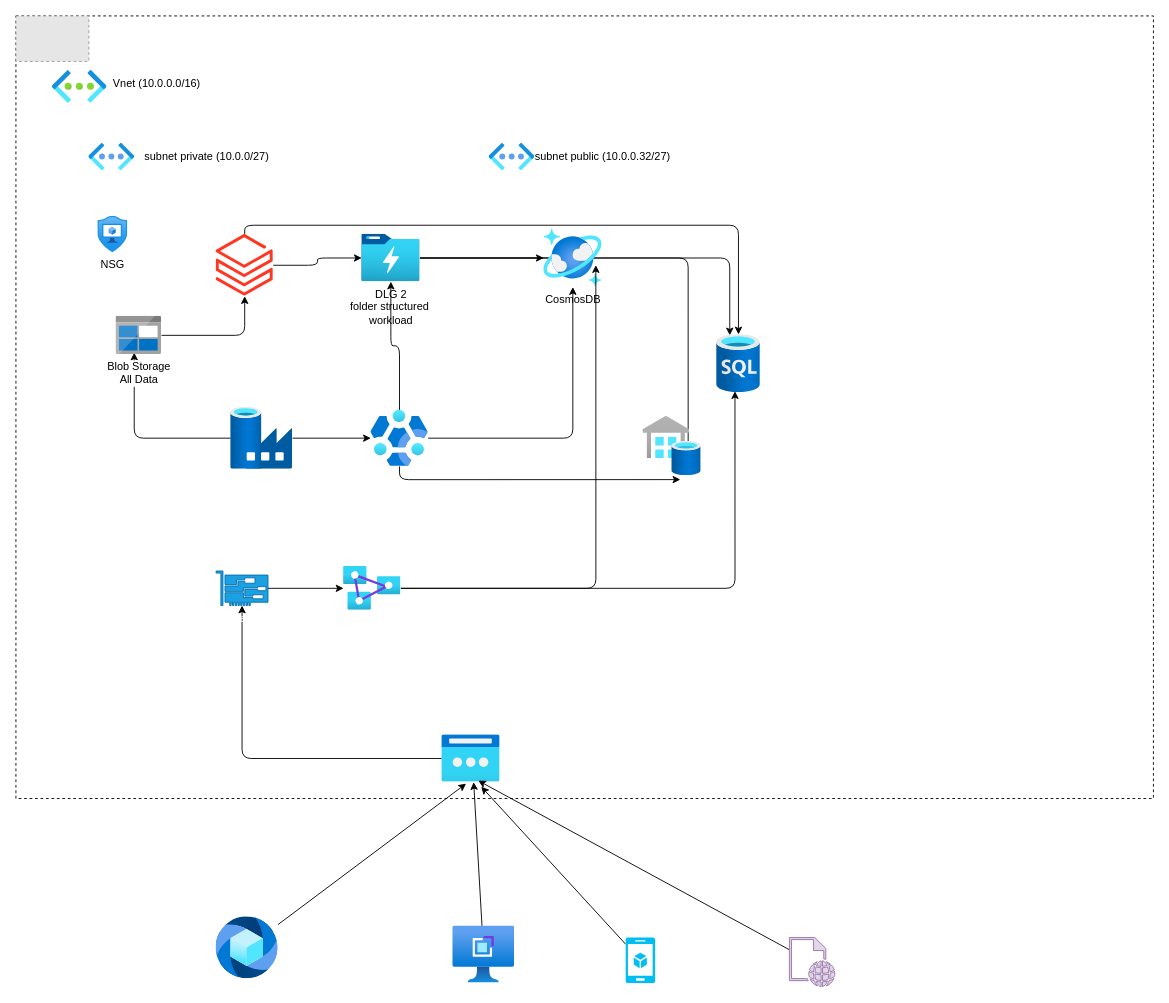
Some shapes in this 1169 by 1003 pixel diagram are drawn without their labels. Grey dashed boxes stand in for pictures. Here are the shapes that lost their labels. From the top down, the centre of each, then its label:
At (261,438): "DataFactoory Ingest / Orchest".
At (470,758): "Azure PIP".
